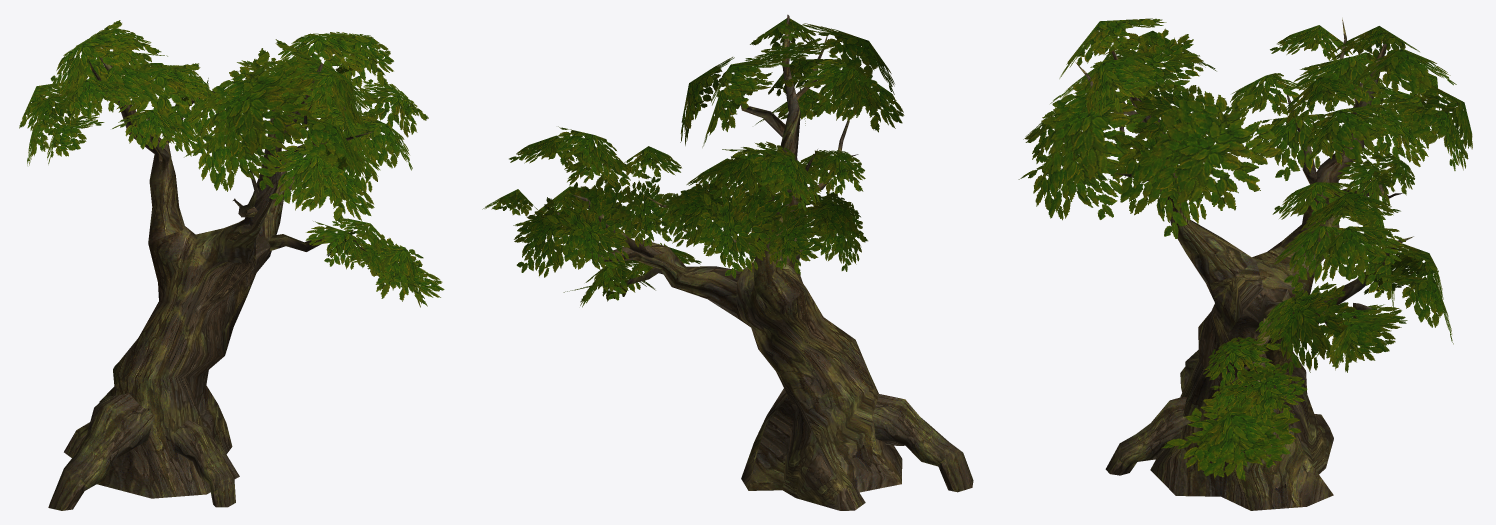
Rendered from 10104_Tree_01.FBX.
The picture shows the model from 3 angles, left to right: view 1: azimuth 30°, elevation 25°; view 2: azimuth 150°, elevation 25°; view 3: azimuth 270°, elevation 25°; orthographic projection. The views are drawn at different scales.
Visible parts, largest first — view 1: Plant08_c002, objBM_N_Wtree02; view 2: Plant08_c002, objBM_N_Wtree02; view 3: Plant08_c002, objBM_N_Wtree02.
Boxes of the visible parts, x1=… form: Plant08_c002: x1=19, y1=20, x2=444, y2=307; objBM_N_Wtree02: x1=48, y1=57, x2=375, y2=510; Plant08_c002: x1=482, y1=18, x2=904, y2=307; objBM_N_Wtree02: x1=557, y1=14, x2=973, y2=510; Plant08_c002: x1=1018, y1=18, x2=1472, y2=481; objBM_N_Wtree02: x1=1075, y1=18, x2=1413, y2=510.
Size of the model in its own units: 1213 by 1114 by 986.
